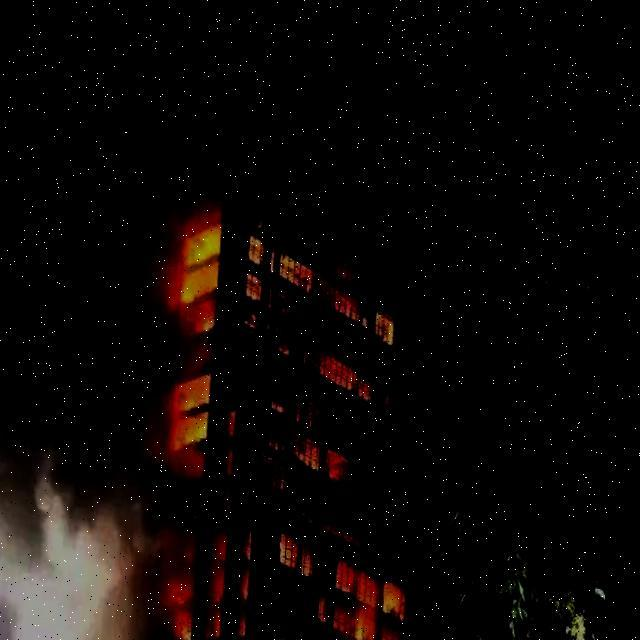Fire: (243, 222, 406, 400), (162, 202, 226, 636), (334, 547, 425, 639), (263, 406, 362, 477), (280, 516, 323, 565)
